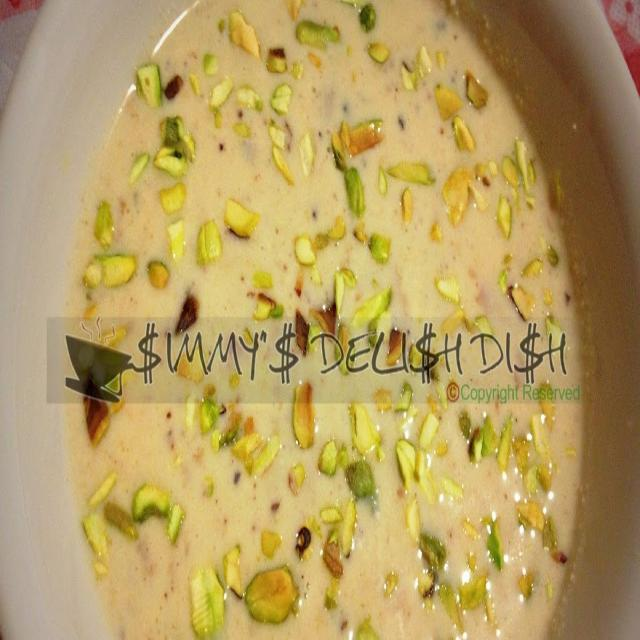Kheer: (71, 0, 596, 640)
